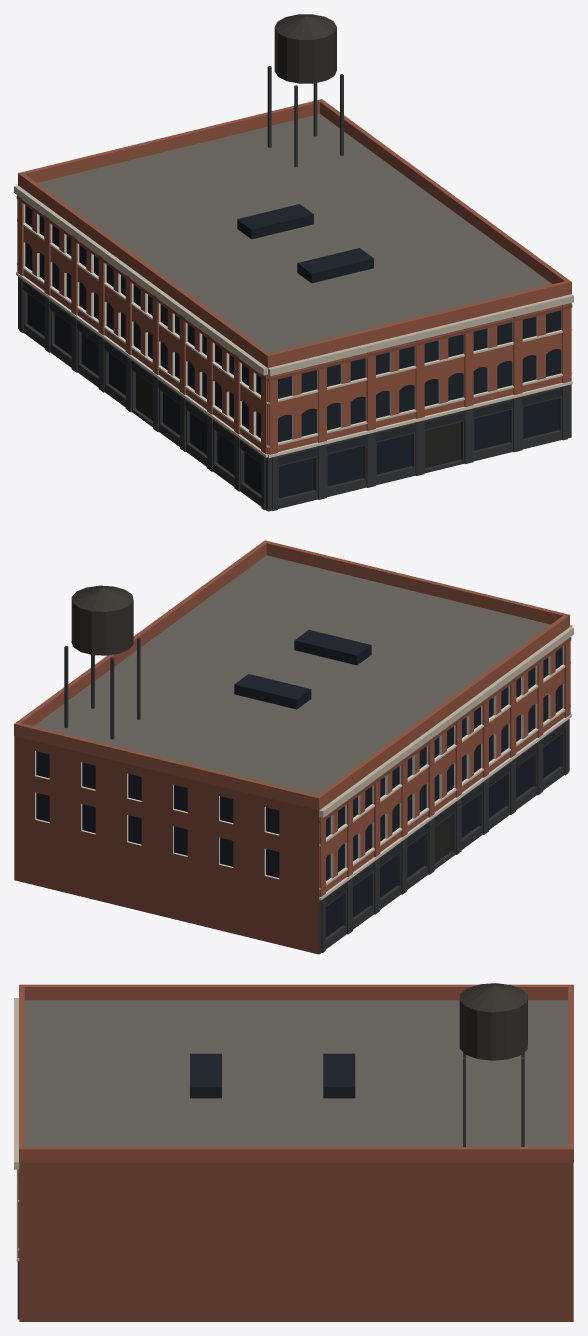
The model's file is pfeifer-brothers-department-store.glb.
3 renders of one model, top to bottom at view 1: azimuth 30°, elevation 25°; view 2: azimuth 150°, elevation 25°; view 3: azimuth 270°, elevation 25°, orthographic. The views are drawn at different scales.
Parts seen in each view (by area): view 1: pfeifer_roof, pfeifer_brick, pfeifer_glass, pfeifer_iron, pfeifer_trim2, pfeifer_sash, pfeifer_tank, pfeifer_sign, pfeifer_stone, pfeifer_trim, pfeifer_brick2, pfeifer_dark; view 2: pfeifer_roof, pfeifer_brick2, pfeifer_brick, pfeifer_glass, pfeifer_iron, pfeifer_tank, pfeifer_sash, pfeifer_trim2, pfeifer_sign, pfeifer_stone, pfeifer_trim, pfeifer_dark; view 3: pfeifer_brick2, pfeifer_roof, pfeifer_brick, pfeifer_tank, pfeifer_glass, pfeifer_trim2, pfeifer_iron.
Part boxes in pixels (x1,y1,x2,y2): pfeifer_roof: [37, 114, 552, 353]; pfeifer_brick: [17, 99, 571, 454]; pfeifer_glass: [25, 204, 561, 498]; pfeifer_iron: [18, 66, 571, 511]; pfeifer_trim2: [14, 185, 573, 376]; pfeifer_sash: [23, 204, 562, 443]; pfeifer_tank: [274, 14, 336, 83]; pfeifer_sign: [23, 281, 562, 465]; pfeifer_stone: [17, 220, 572, 447]; pfeifer_trim: [16, 272, 572, 457]; pfeifer_brick2: [16, 195, 572, 381]; pfeifer_dark: [136, 373, 460, 467]; pfeifer_roof: [33, 555, 550, 795]; pfeifer_brick2: [14, 637, 571, 954]; pfeifer_brick: [14, 540, 570, 896]; pfeifer_glass: [36, 630, 562, 937]; pfeifer_iron: [64, 637, 569, 954]; pfeifer_tank: [71, 585, 133, 655]; pfeifer_sash: [35, 646, 564, 882]; pfeifer_trim2: [319, 624, 573, 817]; pfeifer_sign: [325, 723, 564, 905]; pfeifer_stone: [319, 662, 570, 890]; pfeifer_trim: [319, 713, 571, 900]; pfeifer_dark: [434, 815, 451, 863]; pfeifer_brick2: [17, 1162, 573, 1321]; pfeifer_roof: [24, 1000, 568, 1146]; pfeifer_brick: [17, 984, 573, 1257]; pfeifer_tank: [459, 983, 527, 1060]; pfeifer_glass: [190, 1053, 355, 1098]; pfeifer_trim2: [14, 998, 19, 1169]; pfeifer_iron: [17, 1052, 524, 1319].
Bounding box in the file's own units: 29.62 × 25.5 × 42.02.
